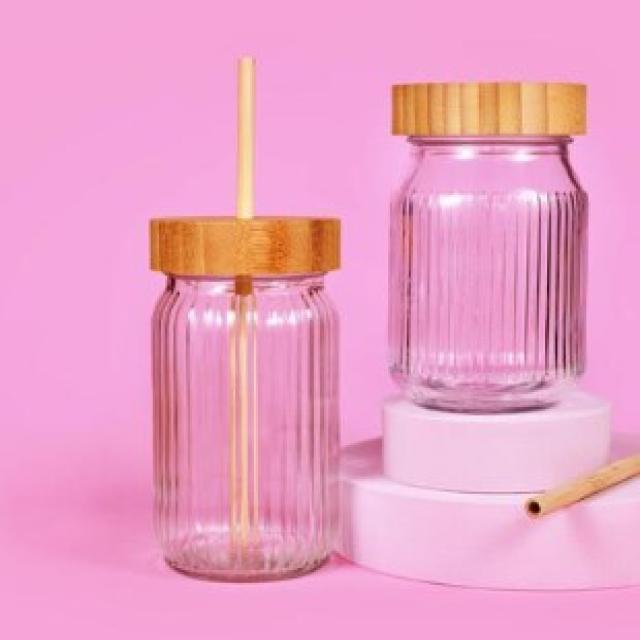electronic: (145, 205, 347, 582), (388, 80, 599, 414)
